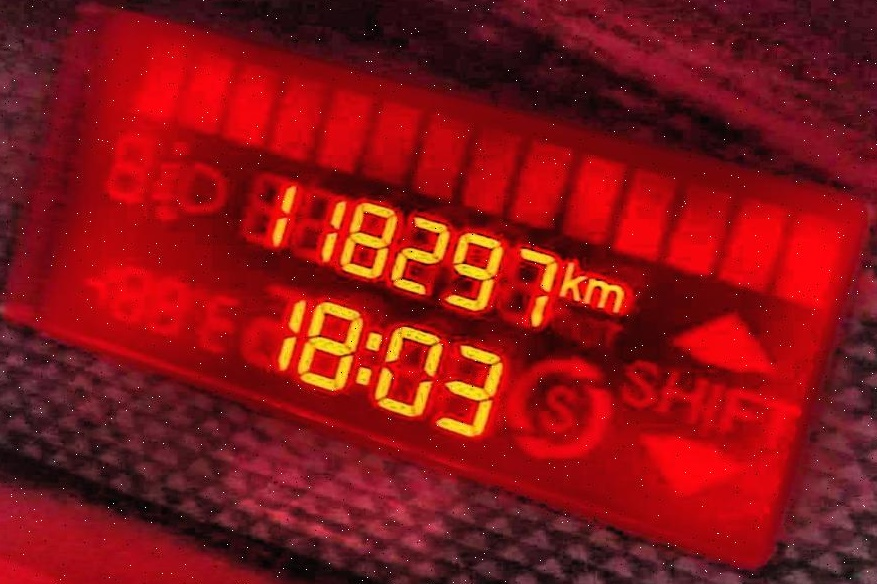0: (381, 313, 438, 425)
1: (259, 175, 297, 260), (311, 193, 349, 268), (269, 292, 305, 371)
2: (393, 201, 442, 300)
3: (447, 338, 506, 440)
7: (513, 237, 564, 339)
8: (294, 287, 356, 400), (339, 190, 389, 285)
9: (449, 219, 502, 320)
X: (584, 273, 626, 313), (355, 328, 381, 387), (556, 259, 584, 306)
